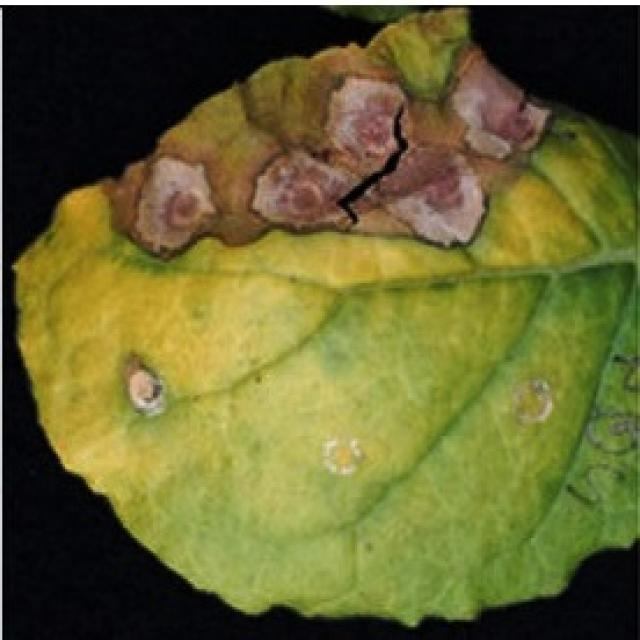Fusarium Wilt: (77, 12, 573, 272)
